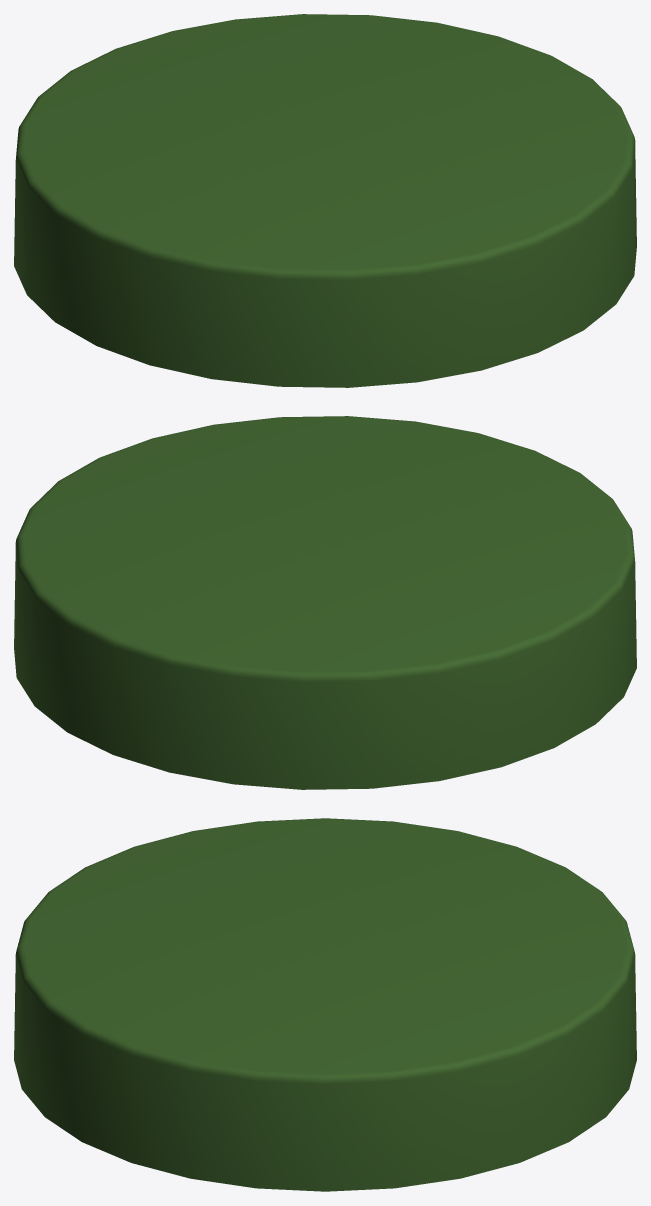
Rendered from Green_Buton001.fbx.
3 renders of one model, top to bottom at view 1: azimuth 30°, elevation 25°; view 2: azimuth 150°, elevation 25°; view 3: azimuth 270°, elevation 25°, orthographic.
Visible parts, largest first — view 1: Green_Buton001; view 2: Green_Buton001; view 3: Green_Buton001.
Boxes of the visible parts, x1=… form: Green_Buton001: x1=14, y1=14, x2=636, y2=387; Green_Buton001: x1=14, y1=416, x2=636, y2=789; Green_Buton001: x1=14, y1=818, x2=636, y2=1191.
Size of the model in its own units: 68.13 by 13.68 by 68.13.
